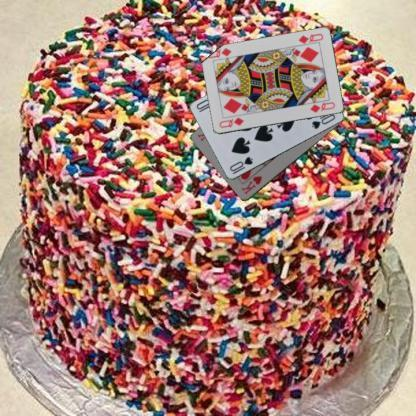10s: (227, 154, 254, 176)
Kh: (238, 173, 263, 196)
Qd: (295, 31, 324, 48), (216, 115, 246, 130)
